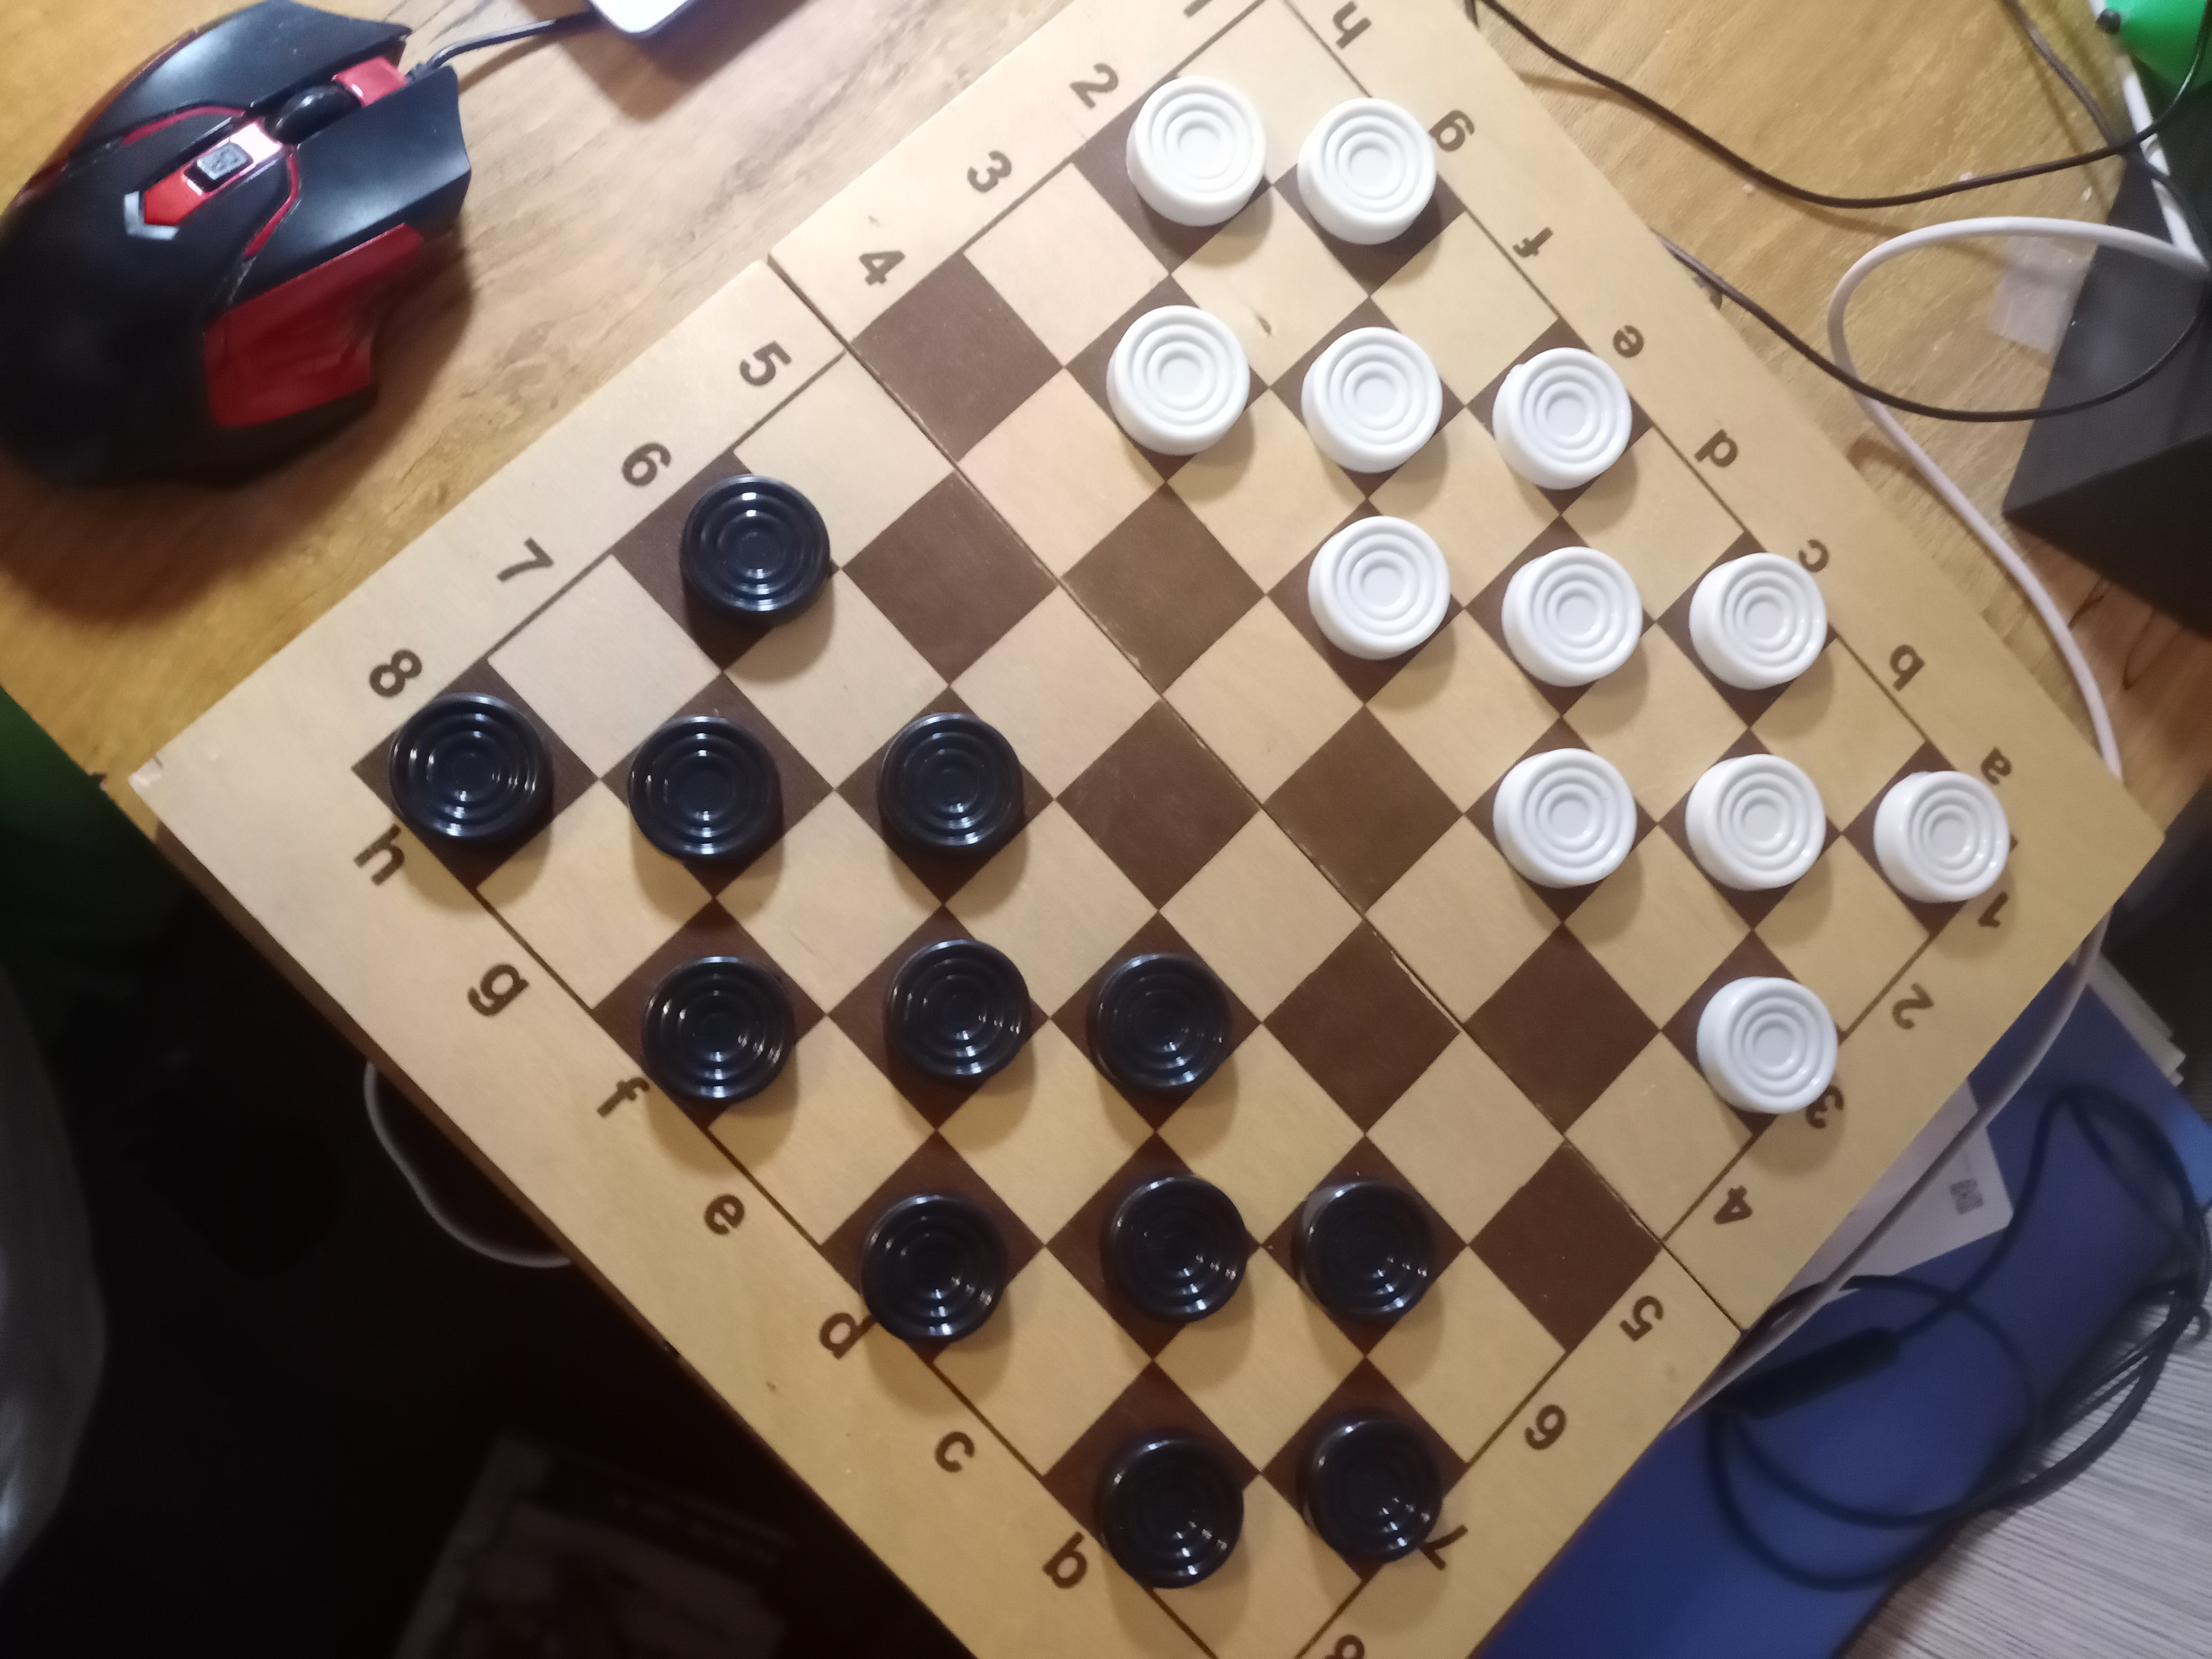White_Draught: (1064, 275, 1270, 483), (1071, 73, 1273, 275), (1266, 498, 1463, 702), (1463, 718, 1656, 924), (1270, 296, 1465, 498), (1463, 514, 1656, 716), (1273, 98, 1468, 296), (1660, 929, 1846, 1136), (1656, 728, 1843, 929), (1465, 317, 1653, 514), (1656, 530, 1838, 728), (1843, 739, 2017, 934)
